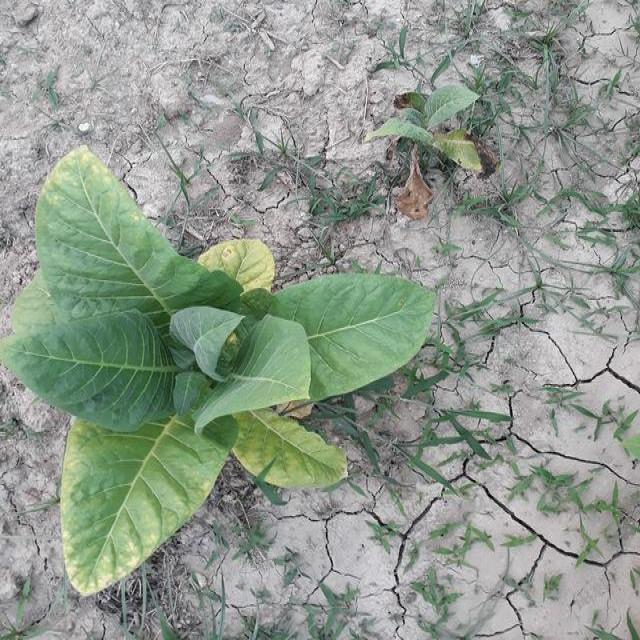crop: (25, 154, 447, 589), (379, 87, 482, 189)
